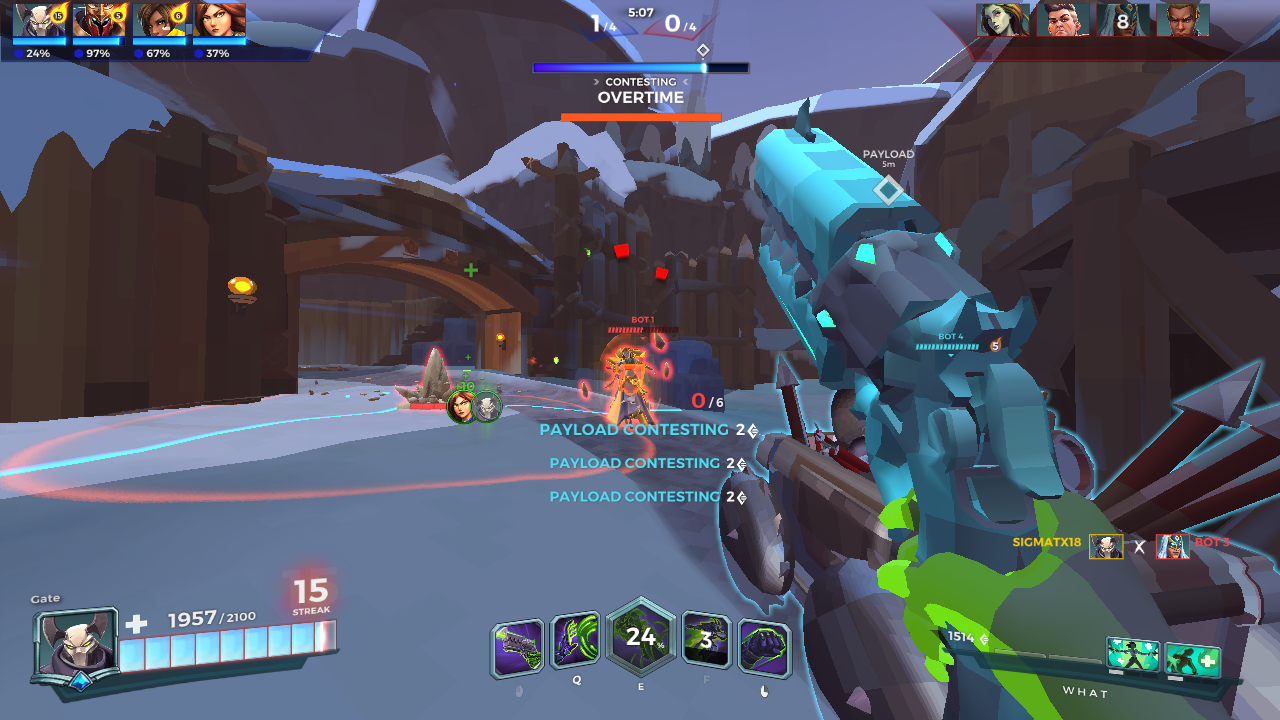model: (608, 341, 658, 435)
